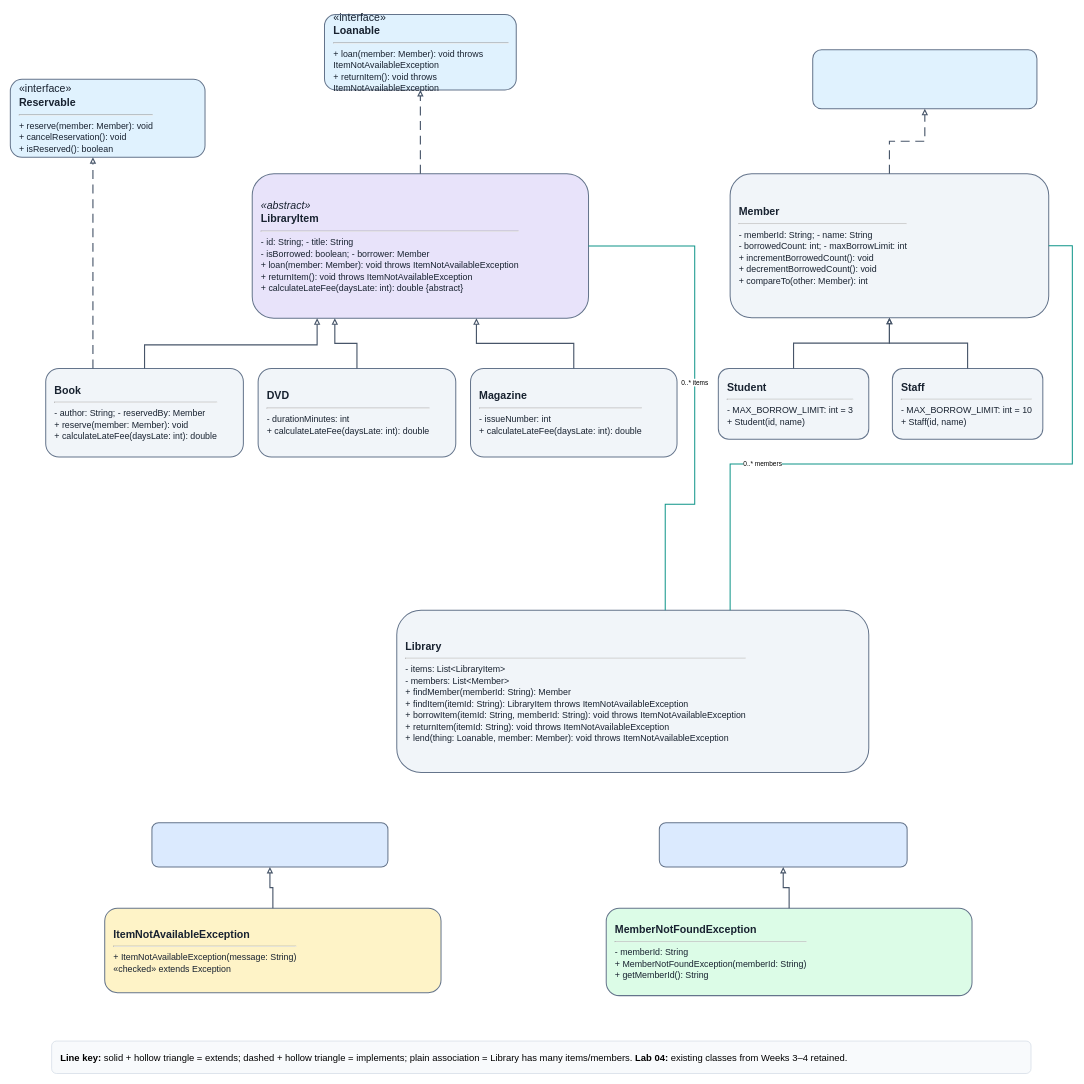
Some shapes in this 1084 by 1084 pixel diagram are drawn without their labels. Here are the shapes that lost their labels. From the top down, the centre of each, then its label:
At (924,79): "«interface» Comparable<Member> + compareTo(other: Member): int".
At (269,844): "Exception".
At (783,844): "RuntimeException".
